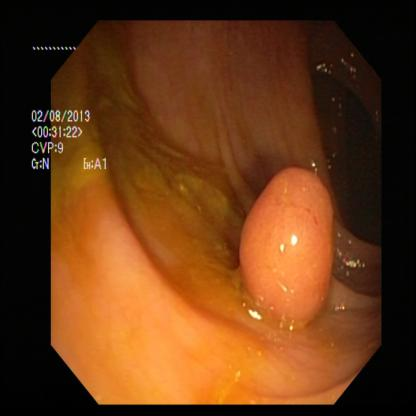Labels: (25, 92, 119, 184)
Polyps: (243, 160, 344, 337)
